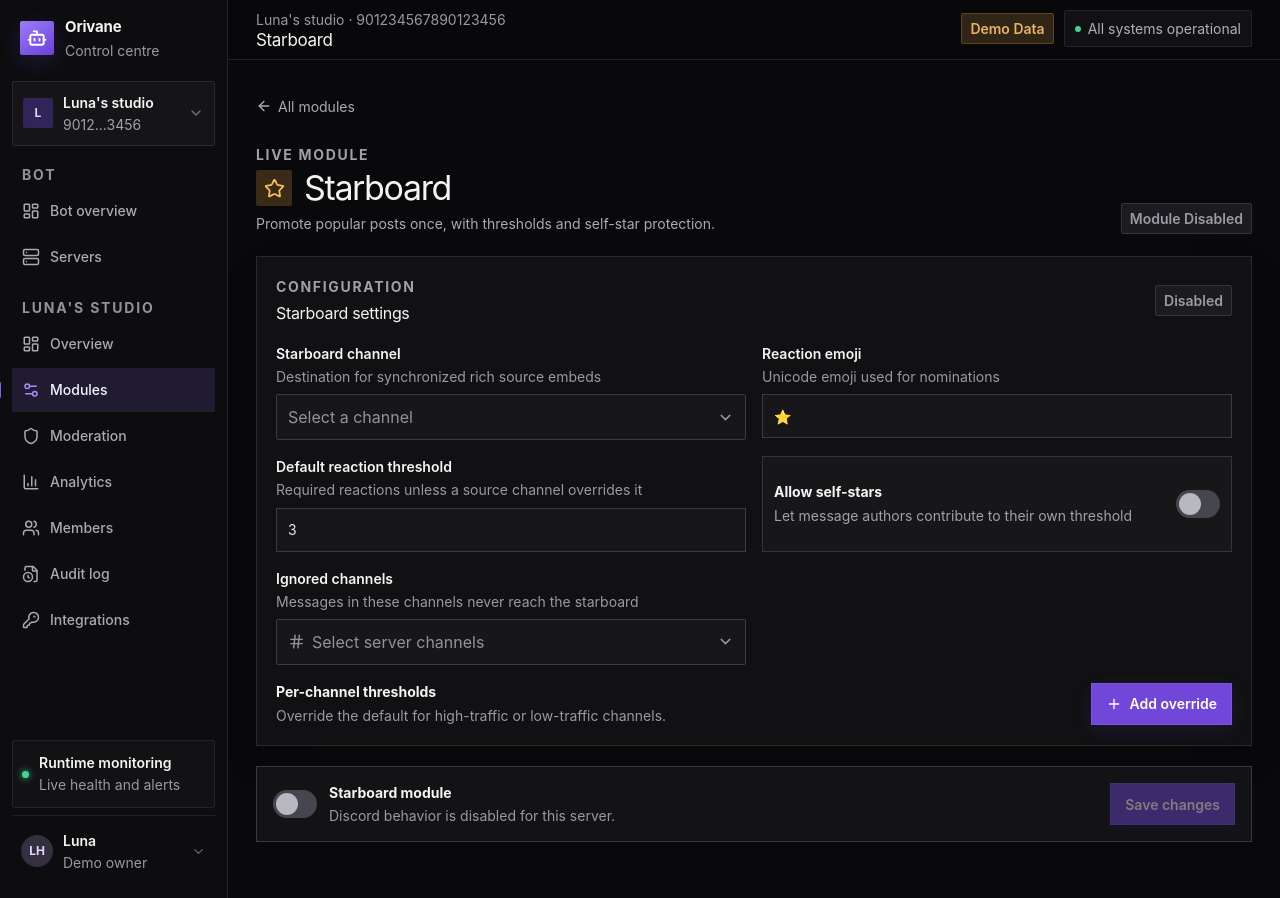
Scenario: module configuration pages › configures per-channel starboard thresholds
The width and height of the screenshot is (1280, 898).
Expected: the heading "Starboard settings" is shown, [276,301,416,325]
Step 1. Click the button "Add override" → (1161, 704), box [1090,682,1232,724]
(page scrolled)
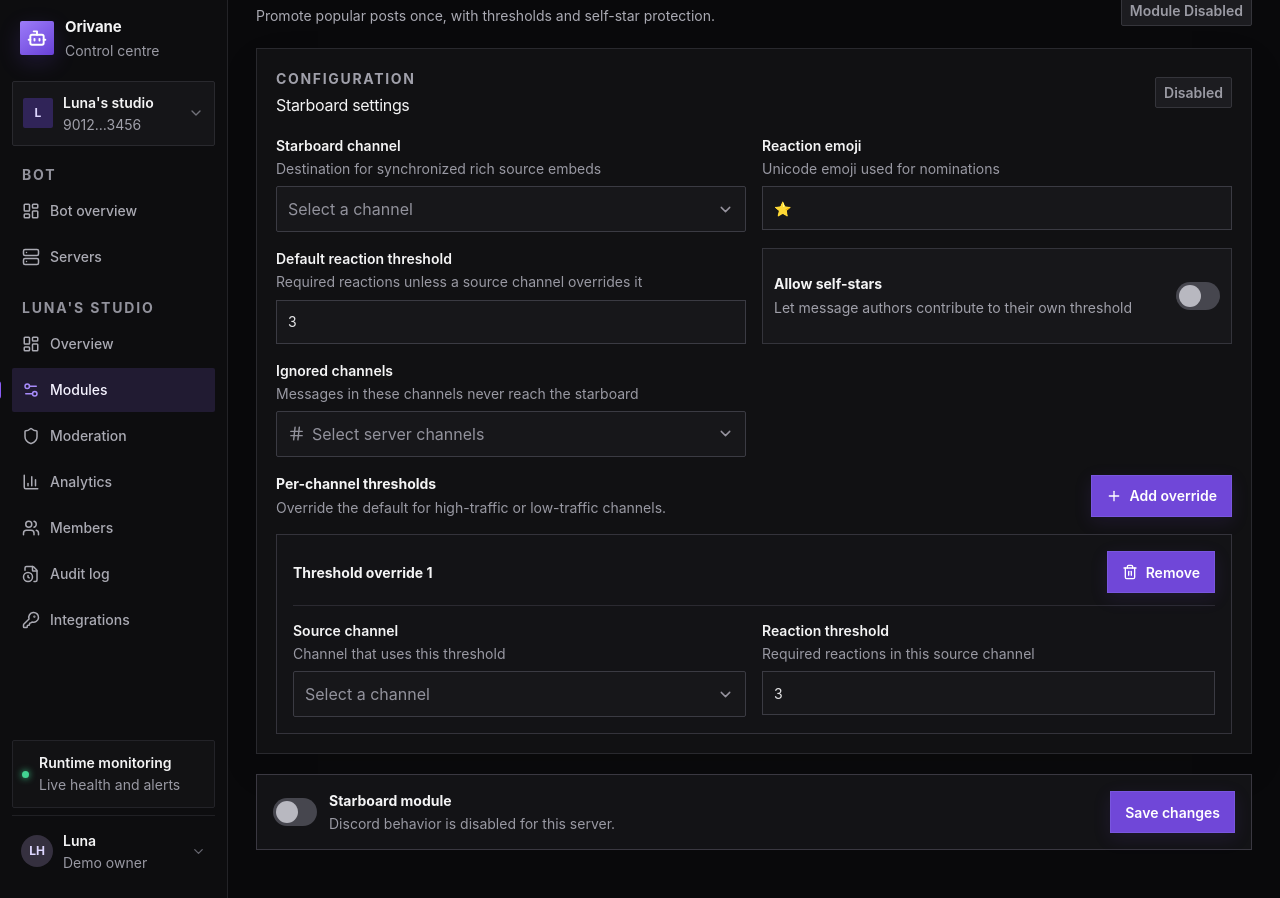
Step 2. Click the dropdown named "Source channel" → (367, 694), box [293,672,746,718]
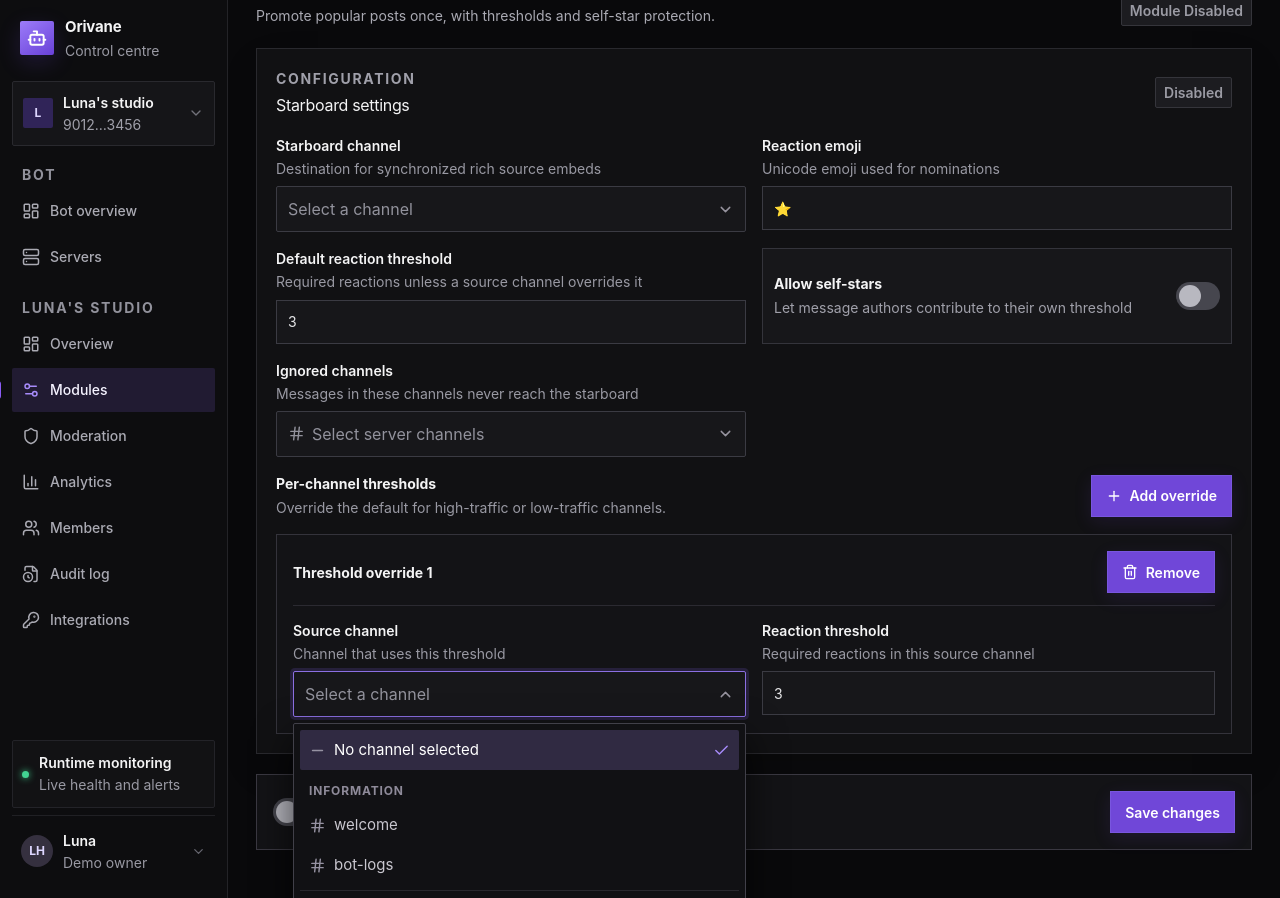
Step 3. Click the option "welcome" → (366, 825), box [300,806,739,846]
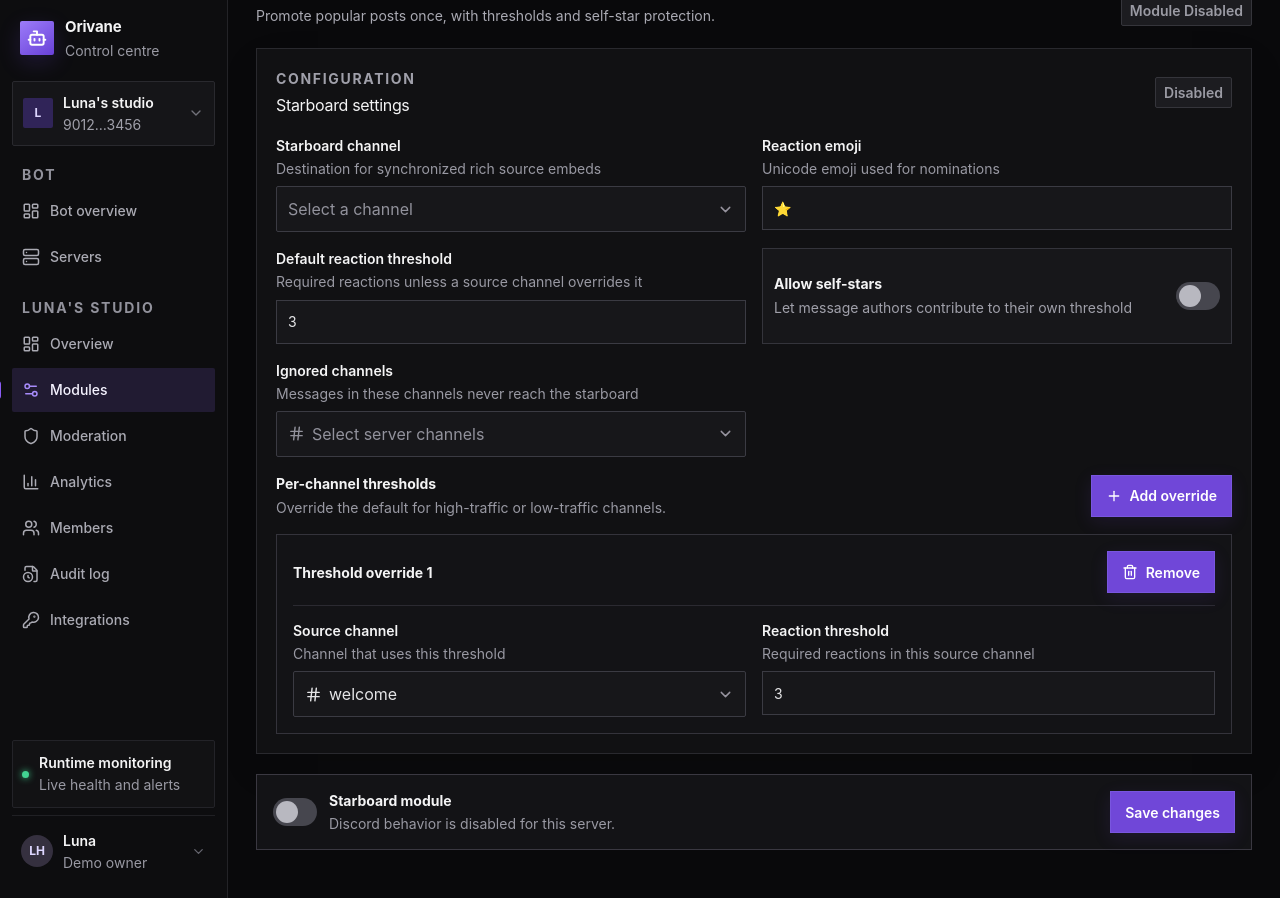
Step 4. Replace the text in the number field labelled "Reaction threshold Required reactions in this source channel" with "7" → (988, 694), box [762,672,1215,716]
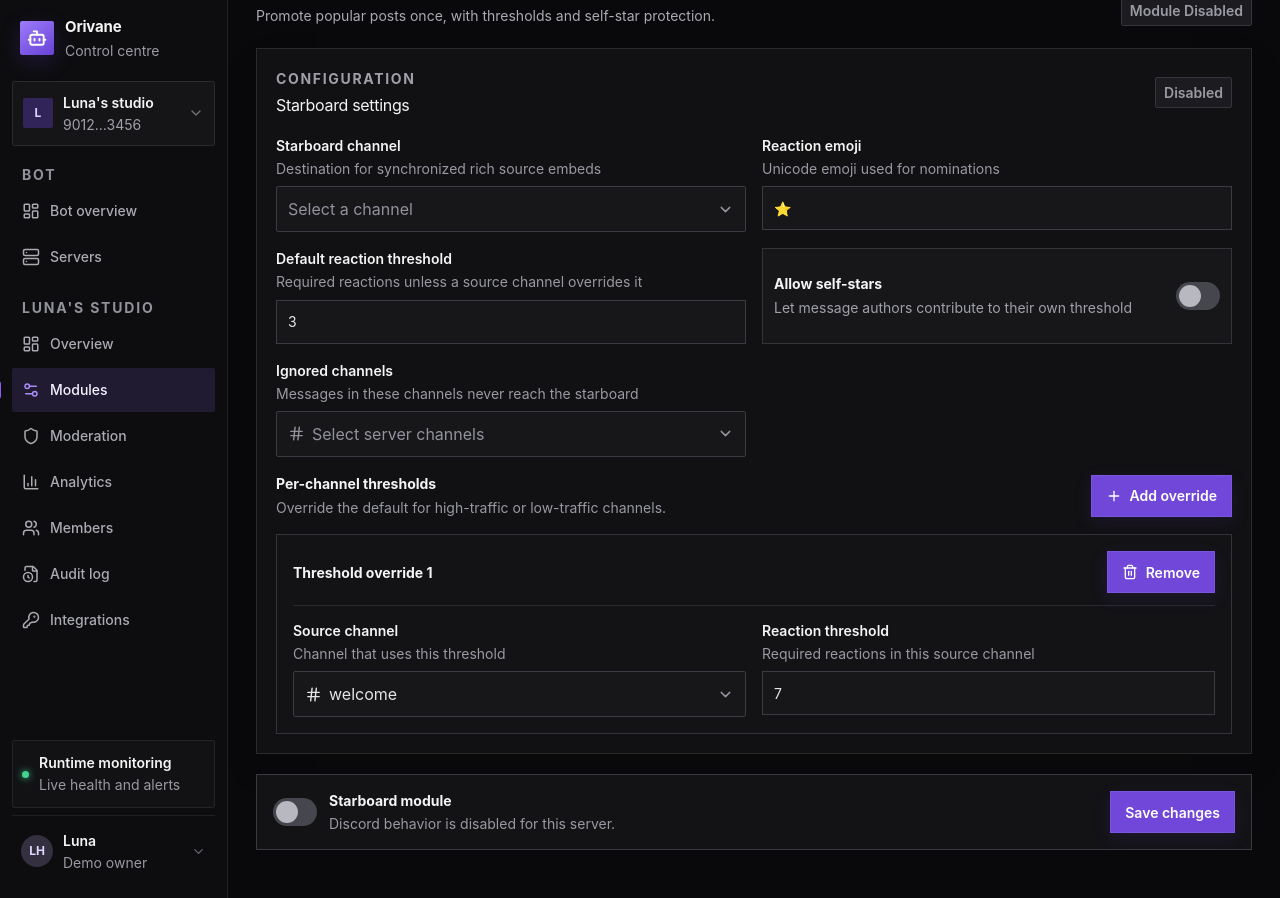
Step 5. Click the button "Save changes" → (1173, 812), box [1110,792,1235,834]
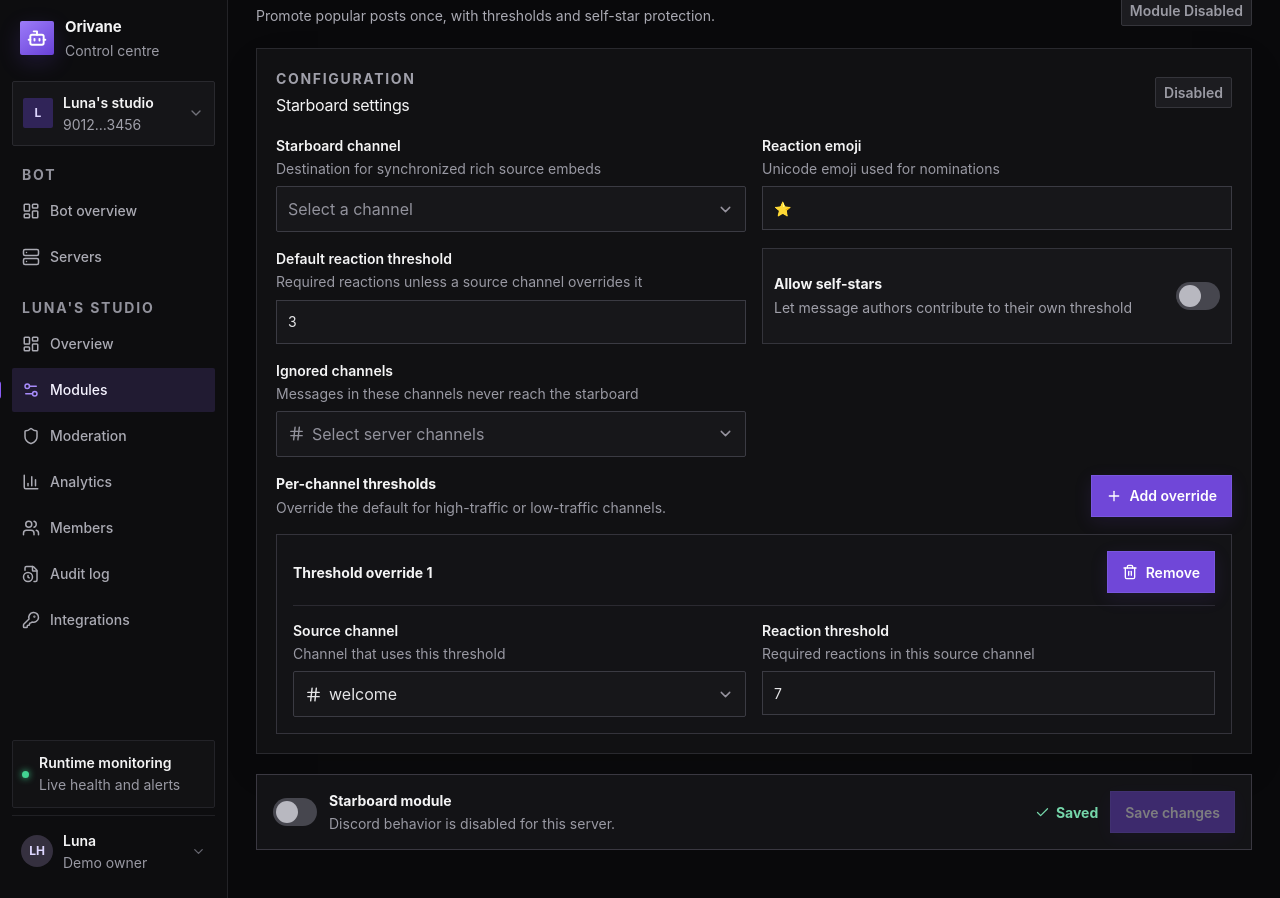
Expected: the text "Saved" is shown, [1035,802,1098,823]
